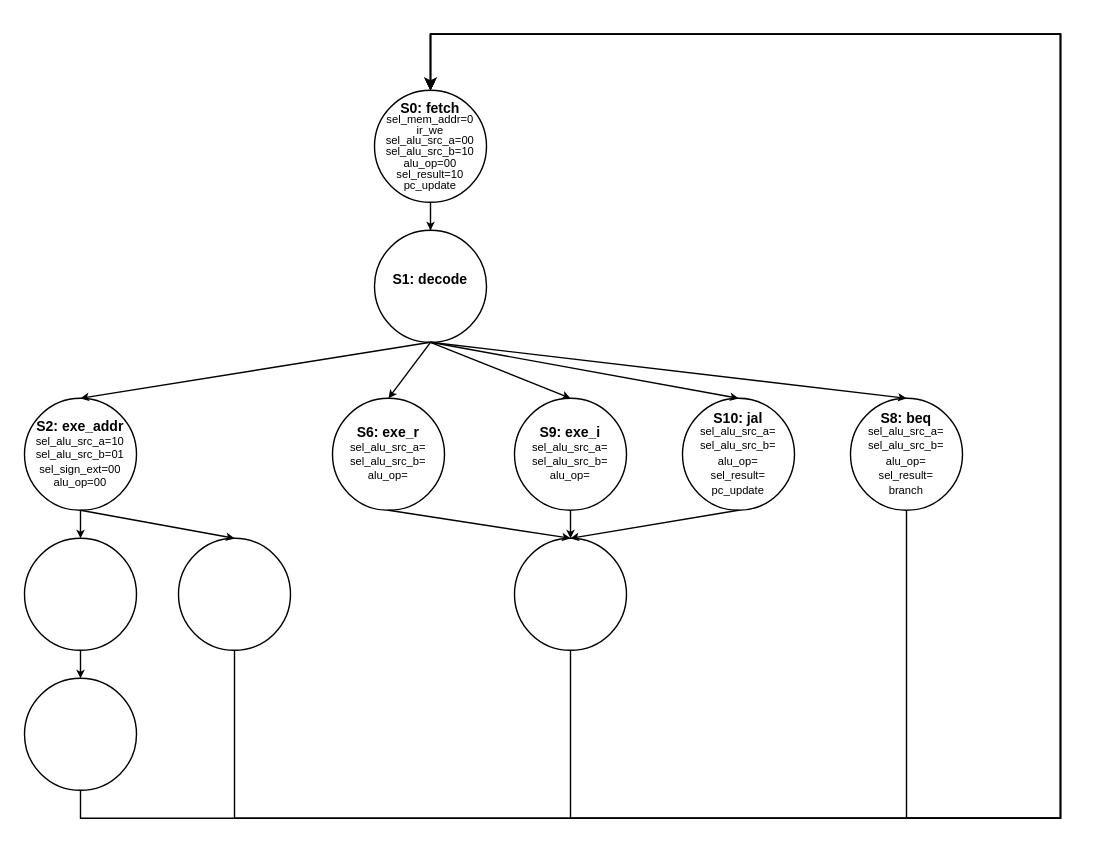
This 1096x854 diagram has some shape labels left out. The shapes that lost their labels are listed below. From the top down, each one's centre as x and y in pixels, then its label:
(79,593): S3: mem_rd sel_result=00 sel_mem_addr=1
(233,593): S5: mem_wr sel_result= sel_mem_addr= mem_we
(569,593): S7: wb_alu sel_result= rf_we
(79,733): S4: wb_mem sel_result=01 rf_we
